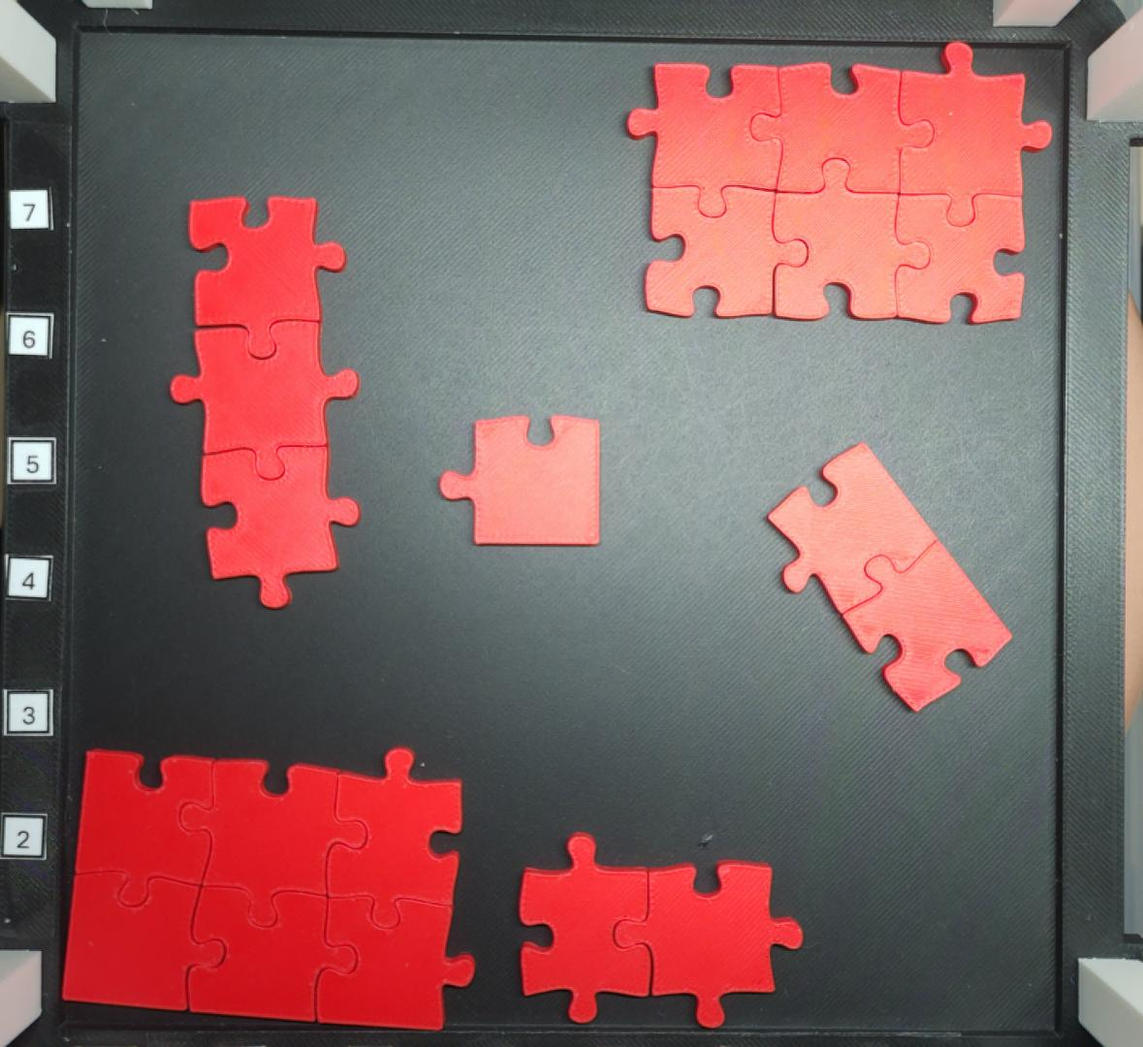p_1: (438, 414, 602, 548)
p_2: (763, 440, 1017, 714), (517, 830, 803, 1030)
p_3: (168, 195, 361, 612)
p_m: (626, 43, 1051, 326), (62, 747, 478, 1032)
